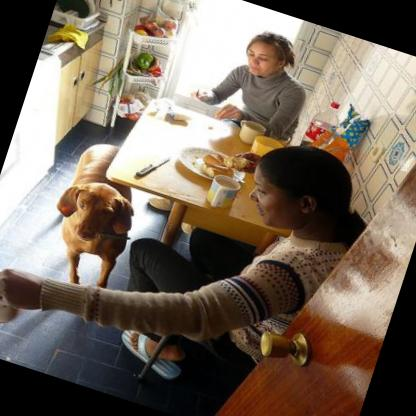vizsla: (32, 131, 156, 292)
